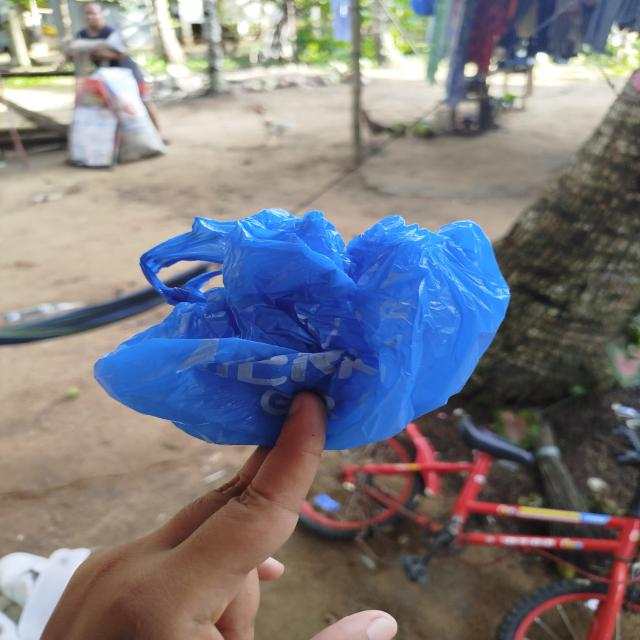residual: (86, 196, 522, 476)
